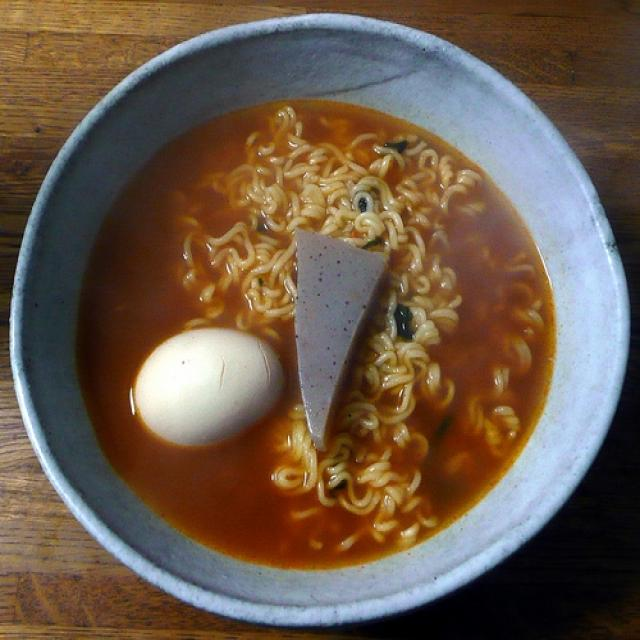面条主食: (45, 52, 587, 584)
